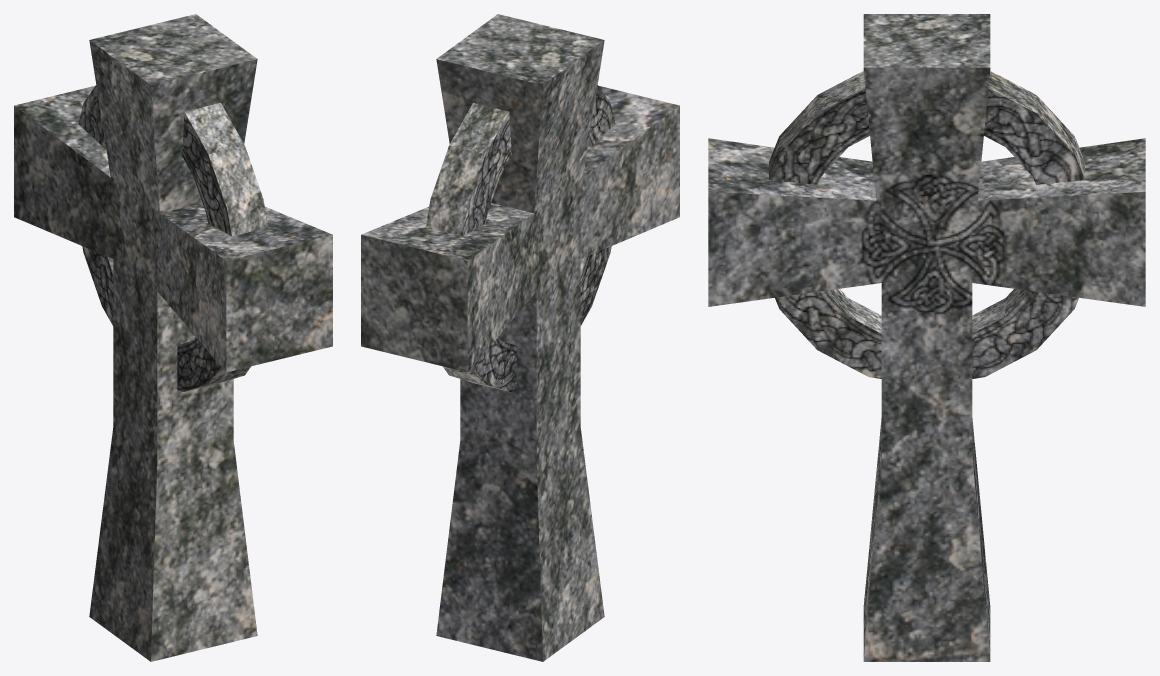
The model's file is cross_2_1.FBX.
3 renders of one model, left to right at view 1: azimuth 30°, elevation 25°; view 2: azimuth 150°, elevation 25°; view 3: azimuth 270°, elevation 25°, orthographic. The views are drawn at different scales.
Visible parts, largest first — view 1: Box02, Tube01; view 2: Box02, Tube01; view 3: Box02, Tube01.
Part boxes in pixels (x1,y1,x2,y2): Box02: [14, 14, 332, 661]; Tube01: [78, 85, 268, 391]; Box02: [361, 14, 679, 661]; Tube01: [425, 85, 615, 391]; Box02: [708, 14, 1145, 661]; Tube01: [769, 71, 1084, 378].
Size of the model in its own units: 150 by 517 by 776.
